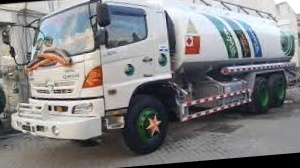truck: (3, 0, 300, 166)
